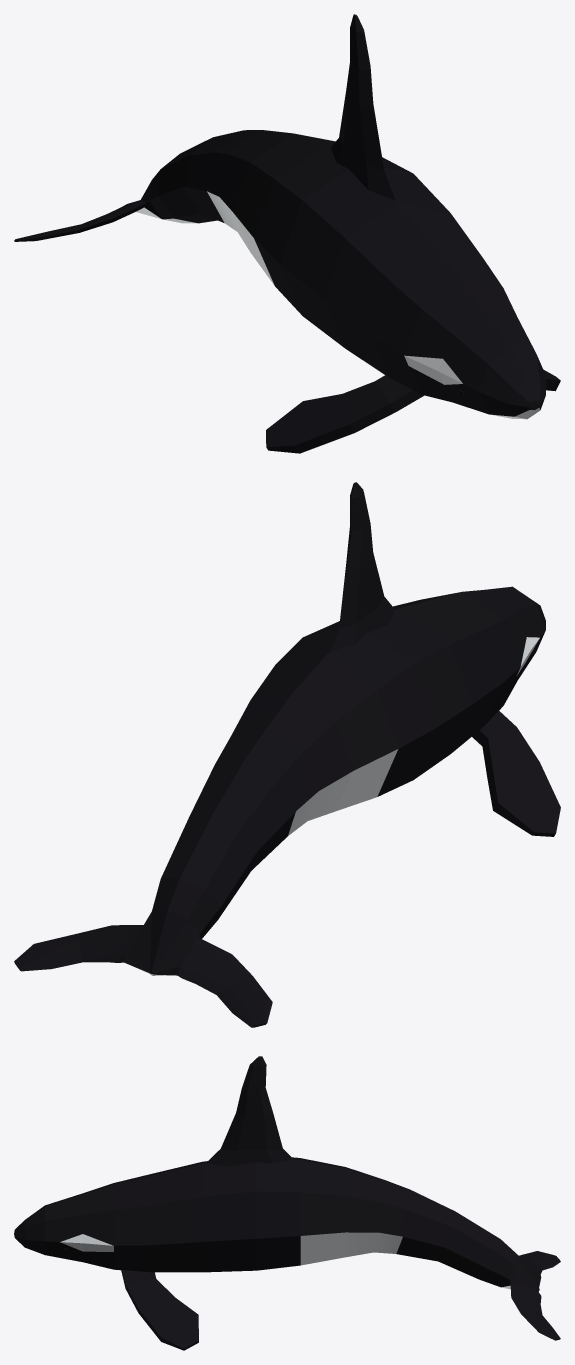
Rendered from Mesh_Orca.obj.
The picture shows the model from 3 angles, top to bottom: view 1: azimuth 30°, elevation 25°; view 2: azimuth 150°, elevation 25°; view 3: azimuth 270°, elevation 25°; orthographic projection. The views are drawn at different scales.
Visible parts, largest first — view 1: Geo_Orca; view 2: Geo_Orca; view 3: Geo_Orca.
Boxes of the visible parts, bbox=[...] form: Geo_Orca: bbox=[14, 14, 560, 453]; Geo_Orca: bbox=[14, 482, 560, 1027]; Geo_Orca: bbox=[14, 1056, 560, 1350].
Bounding box in the file's own units: 235 × 278 × 560.
Materials: 1 (1 with a texture image).
